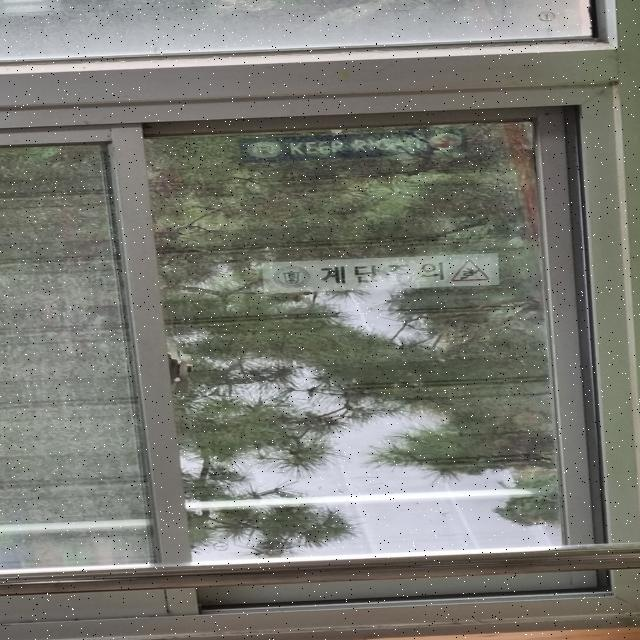logo: (269, 264, 312, 290), (246, 140, 285, 162)
